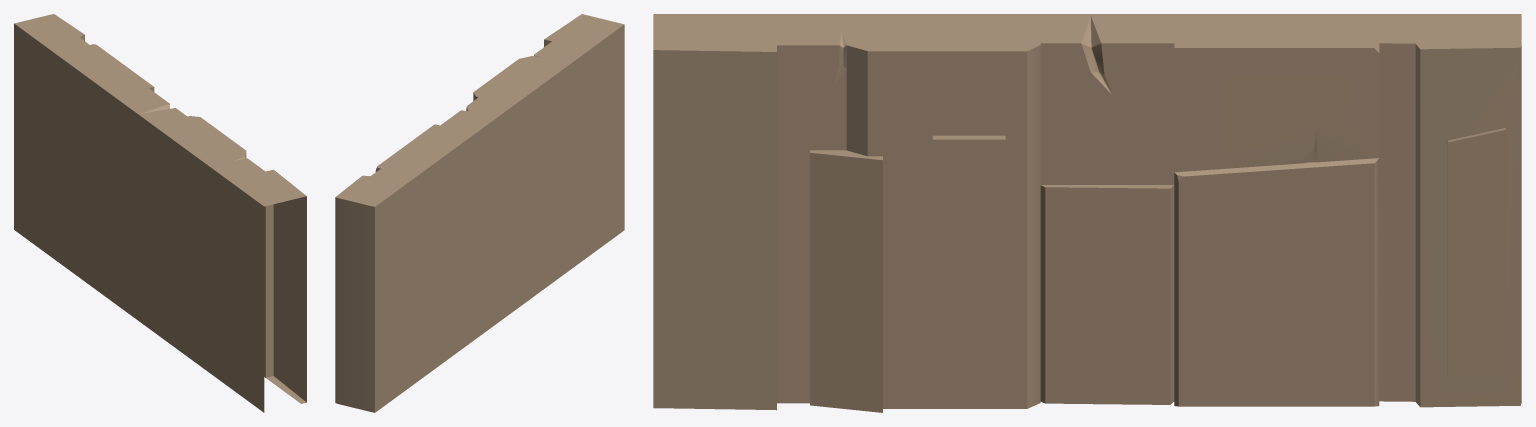
Rendered from wall3.FBX.
3 renders of one model, left to right at view 1: azimuth 30°, elevation 25°; view 2: azimuth 150°, elevation 25°; view 3: azimuth 270°, elevation 25°, orthographic. The views are drawn at different scales.
Visible parts, largest first — view 1: Object581; view 2: Object581; view 3: Object581.
Part boxes in pixels (left/top/right/bottom): Object581: left=14, top=14, right=306, bottom=412; Object581: left=335, top=14, right=624, bottom=412; Object581: left=653, top=14, right=1521, bottom=412.
Bounding box in the file's own units: 13.12 × 53.3 × 117.
